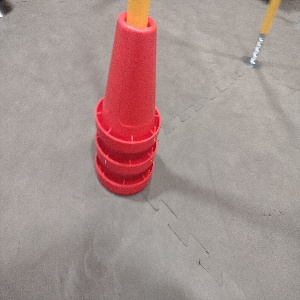Red_3: (82, 8, 166, 203)
